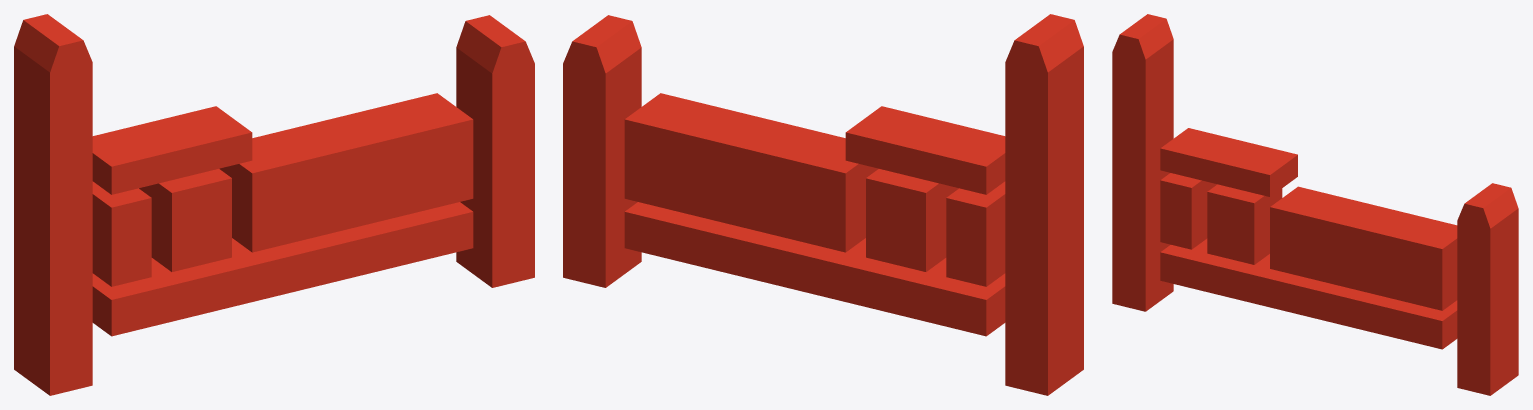
The model's file is Icon_Bed.fbx.
3 views of the same model, side by side, from view 1: azimuth 30°, elevation 25°; view 2: azimuth 150°, elevation 25°; view 3: azimuth 330°, elevation 25° (orthographic). The views are drawn at different scales.
Visible parts, largest first — view 1: Icon_Bed; view 2: Icon_Bed; view 3: Icon_Bed.
Boxes of the visible parts, x1,y1,x2,y2 form: Icon_Bed: (14, 14, 534, 395); Icon_Bed: (563, 14, 1083, 395); Icon_Bed: (1112, 14, 1518, 395).
Size of the model in its own units: 93.83 by 64.27 by 12.06.
